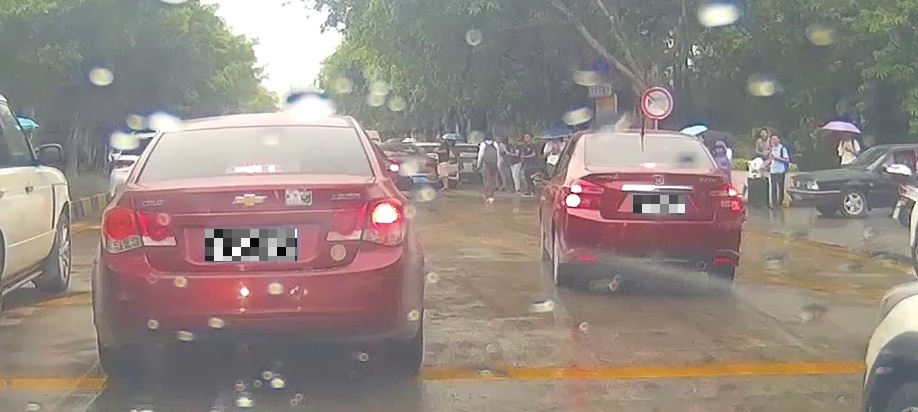L_light: (100, 206, 177, 254), (564, 179, 603, 209)
R_light: (327, 197, 408, 247), (708, 183, 741, 211)
T_light: (231, 163, 279, 173), (637, 161, 664, 167)
day-brake: (558, 129, 743, 291)
day-right: (91, 111, 425, 378)
plate_1: (205, 229, 297, 261)
plate_2: (633, 195, 685, 213)
